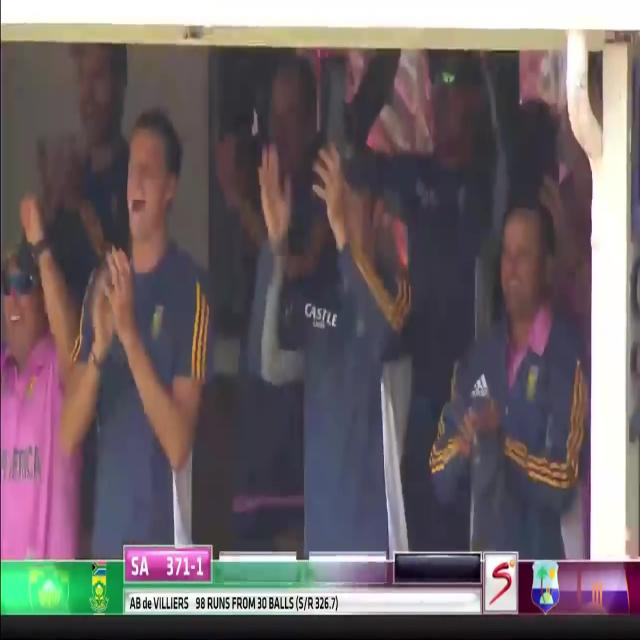Ball: (298, 61, 596, 559)
